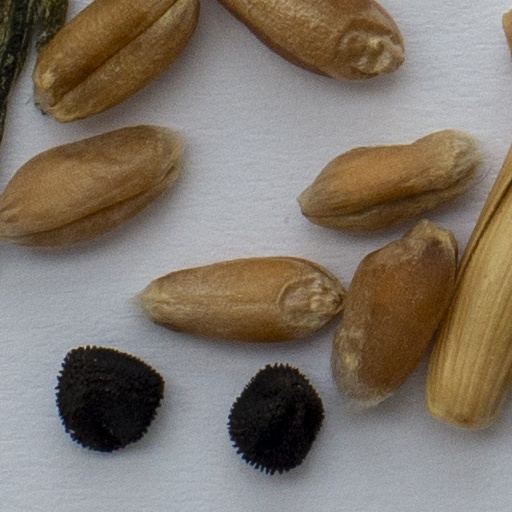Peel-poly: (427, 147, 511, 427), (0, 0, 68, 147)
